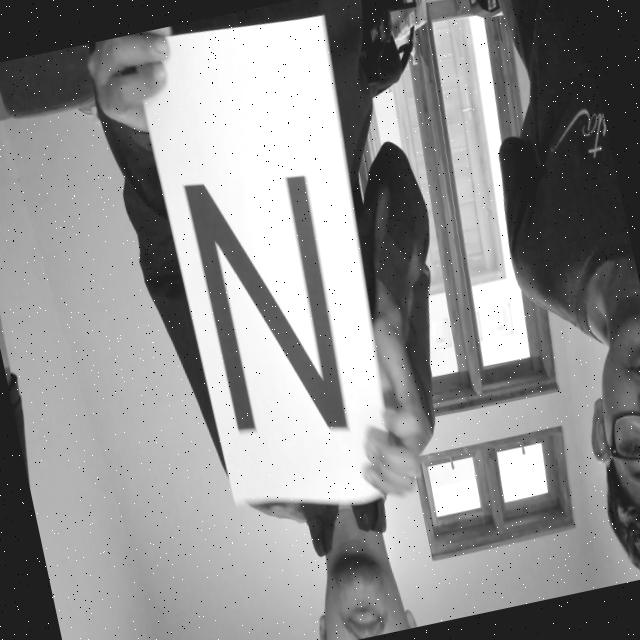n: (156, 107, 370, 470)
